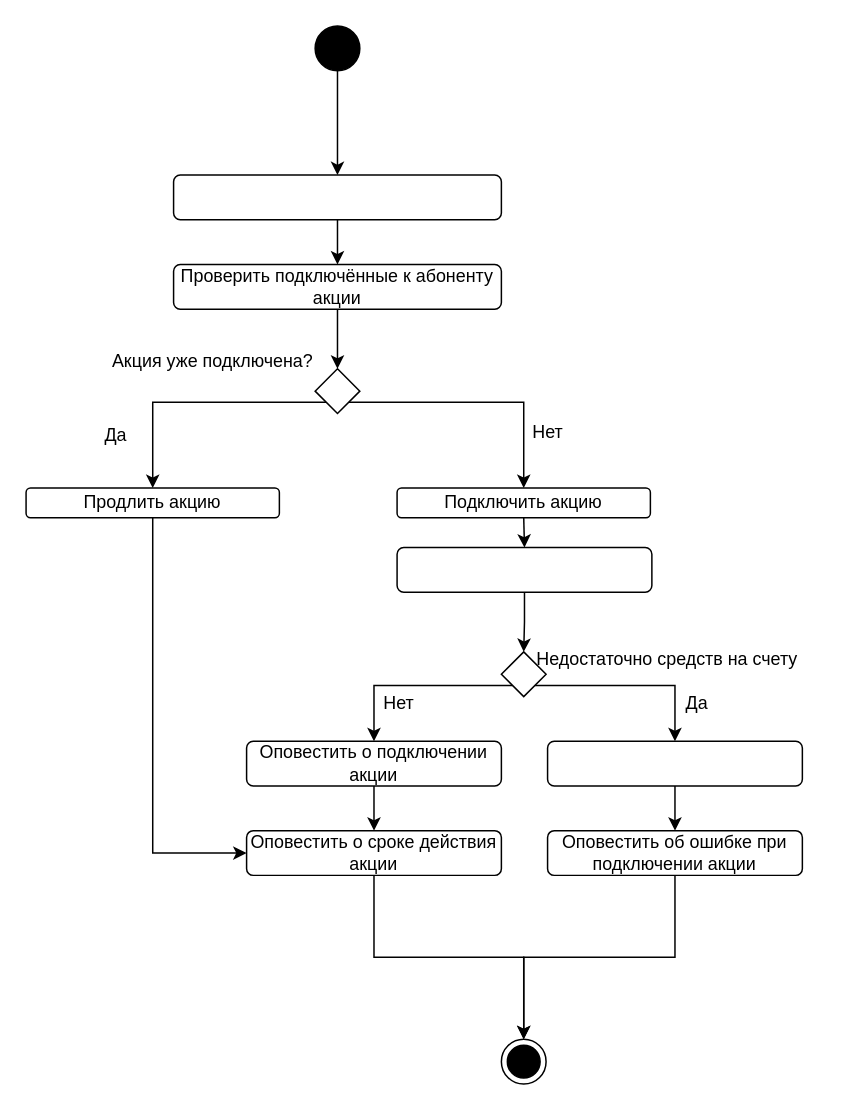
This 842x1110 diagram has some shape labels left out. Here are the shapes that lost their labels. From the top down, the box of each, then its label:
(172, 174, 501, 220): Получить информацию об абоненте
(396, 546, 652, 592): Списать деньги за подключение
(546, 740, 802, 786): Отменить подключение акции
